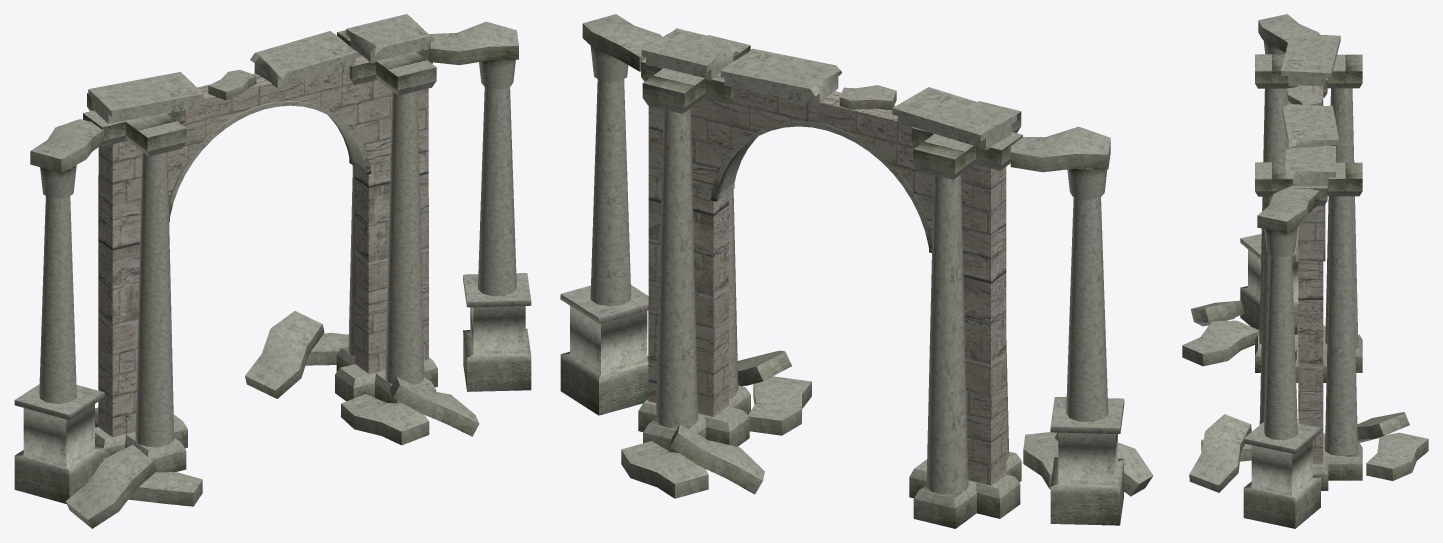
File: ruined_arch.glb
3 views of the same model, side by side, from view 1: azimuth 30°, elevation 25°; view 2: azimuth 150°, elevation 25°; view 3: azimuth 270°, elevation 25° (orthographic). The views are drawn at different scales.
Parts seen in each view (by area): view 1: Object.002; view 2: Object.002; view 3: Object.002.
Part boxes in pixels (x1,y1,x2,y2): Object.002: (14,14,531,528); Object.002: (560,14,1153,528); Object.002: (1182,14,1428,528).
Size of the model in its own units: 13.25 by 8.96 by 6.21.
Materials: 3 (3 with a texture image).
